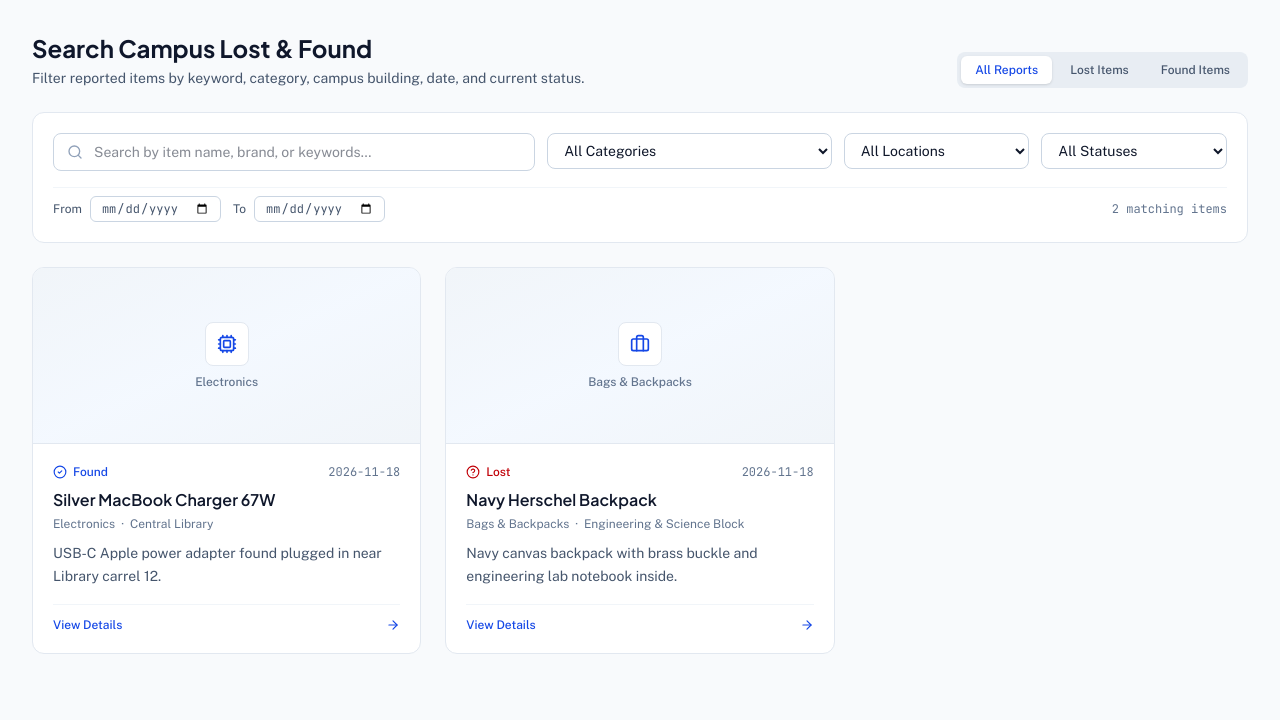
Test: Functional Testing Suite › TC-FUNC-08: Filters search catalog by type, category, location, and resets filters
Click the button "found Items": click(1195, 70) [1147, 56, 1244, 84]
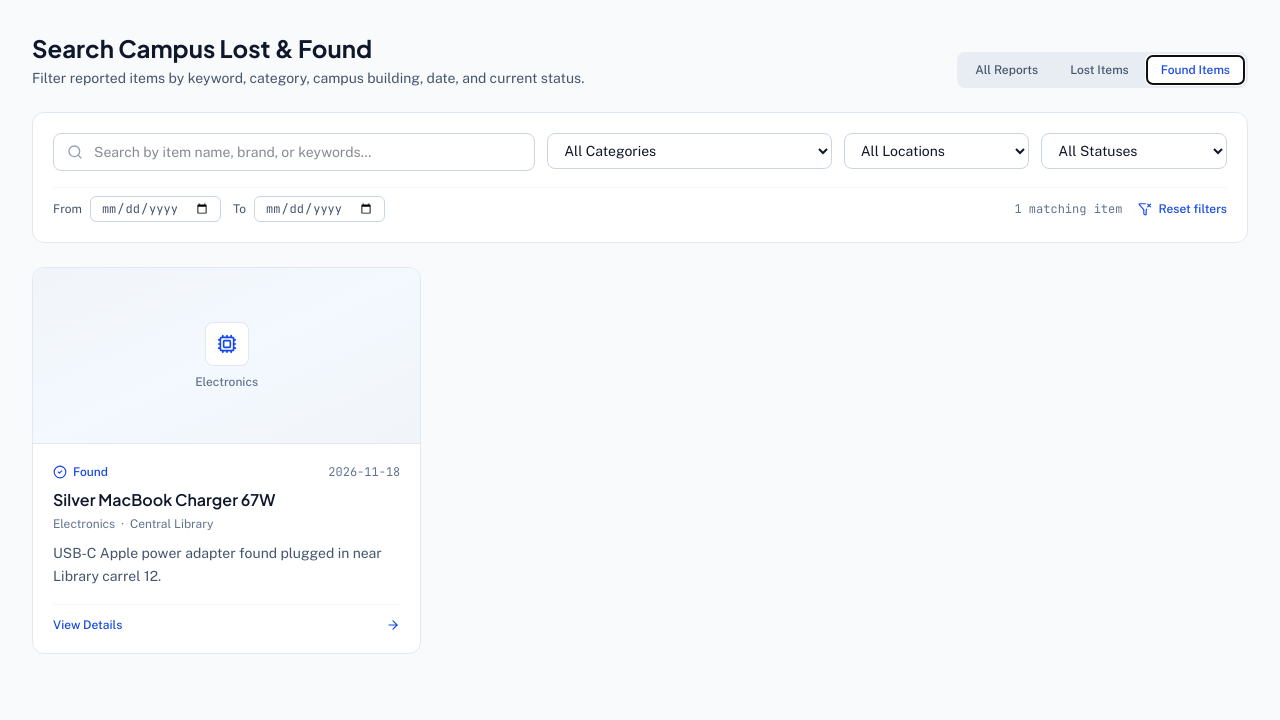
Check: the heading "Silver MacBook Charger 67W" is shown, box [53, 489, 275, 510]
Check: the button "Navy Herschel Backpack" is gone
Click the button "Reset filters": click(1183, 209) [1138, 201, 1227, 217]
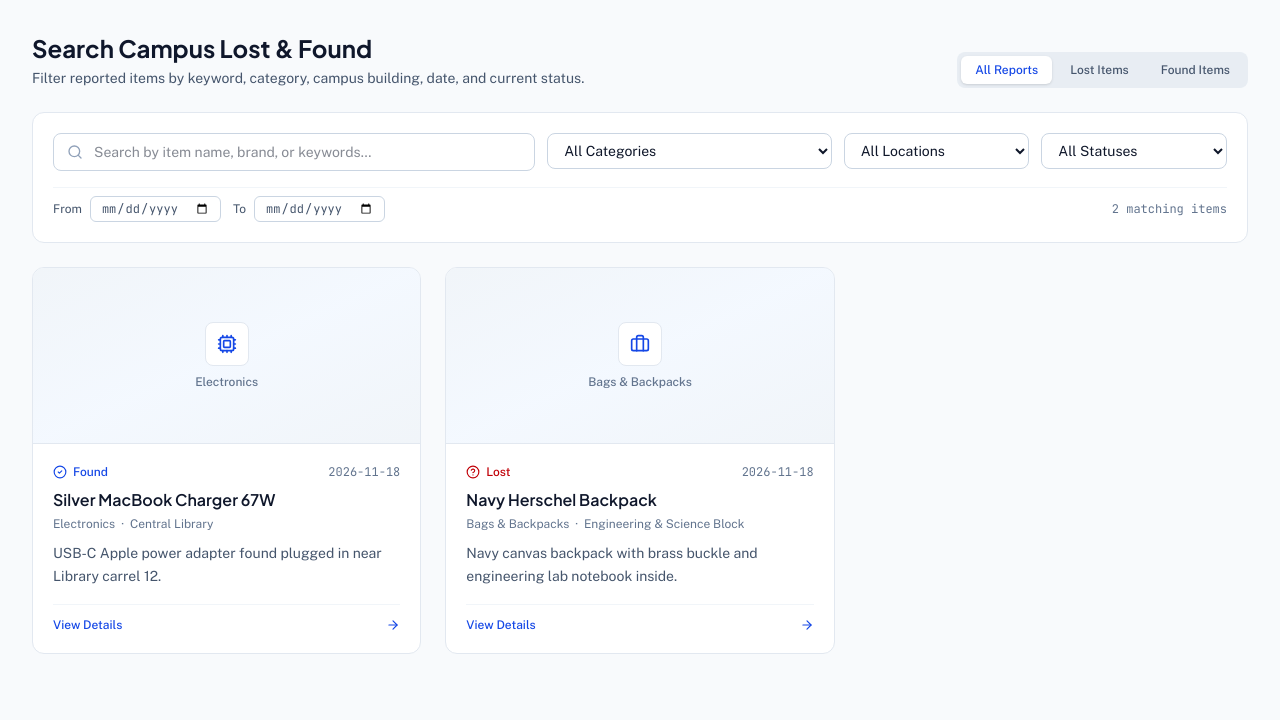
Check: the heading "Navy Herschel Backpack" is shown, box [466, 489, 657, 510]
